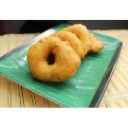vada: (28, 36, 81, 79), (51, 32, 84, 65), (64, 23, 98, 54)
